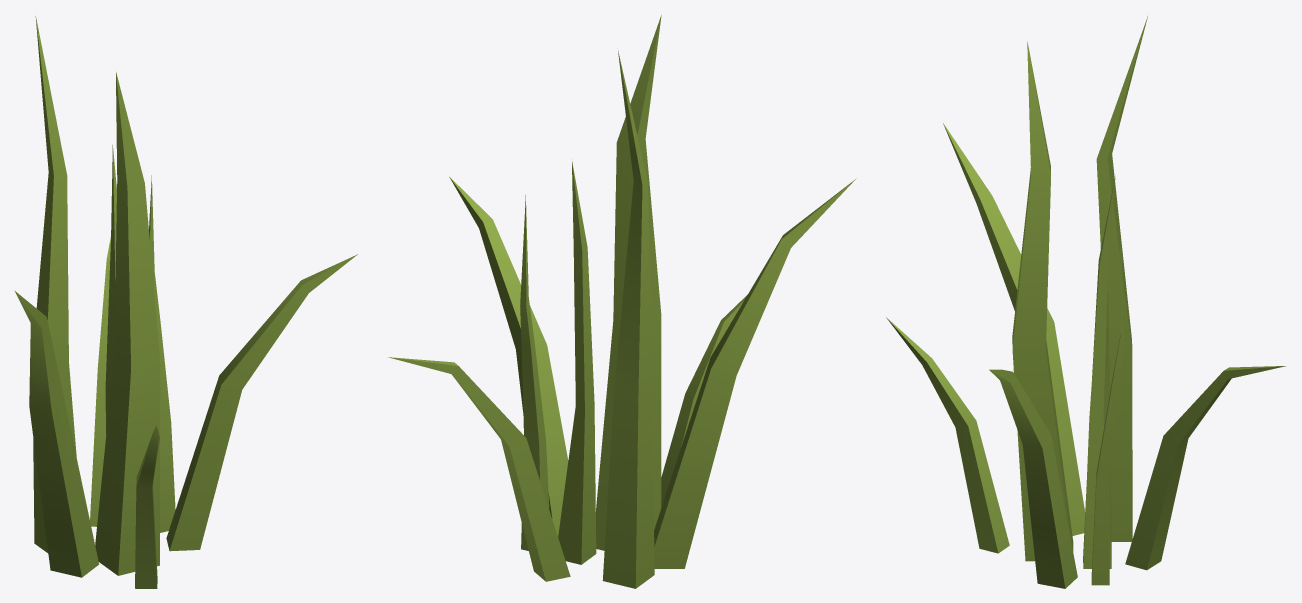
File: Spring_Grass_01.glb
3 views of the same model, side by side, from view 1: azimuth 30°, elevation 25°; view 2: azimuth 150°, elevation 25°; view 3: azimuth 270°, elevation 25° (orthographic). The views are drawn at different scales.
Visible parts, largest first — view 1: Spring_Grass_01_LOD0; view 2: Spring_Grass_01_LOD0; view 3: Spring_Grass_01_LOD0.
Boxes of the visible parts, x1,y1,x2,y2 form: Spring_Grass_01_LOD0: (14,16,357,588); Spring_Grass_01_LOD0: (388,15,856,588); Spring_Grass_01_LOD0: (886,16,1285,588).
Size of what is drawn, in the model's own units: 0.4749 by 0.6435 by 0.4538.
Materials: 1 (1 with a texture image).
